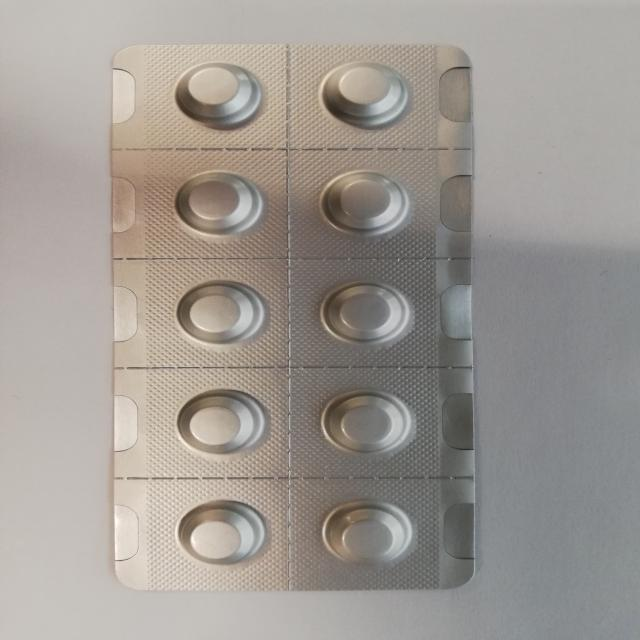Pill: (159, 53, 278, 133), (309, 51, 426, 130), (307, 388, 424, 462), (167, 493, 272, 575), (161, 162, 272, 238), (318, 161, 416, 246), (174, 379, 278, 457), (159, 274, 267, 348), (313, 498, 417, 574), (315, 275, 415, 350)
